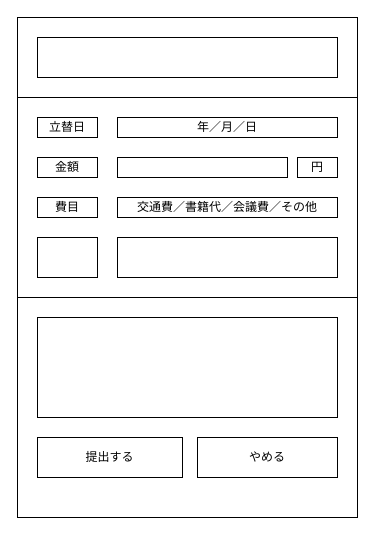
The diagram is 376 pixels wide and 535 high, and some of its shapes have lost their labels. Each missing label, with the centre of its shape:
"差し戻しの理由 （差し戻された申請を書き直すときだけ表示する）" belongs at point (187, 367).
"用途" belongs at point (67, 257).
"経費を申請する" belongs at point (187, 57).
